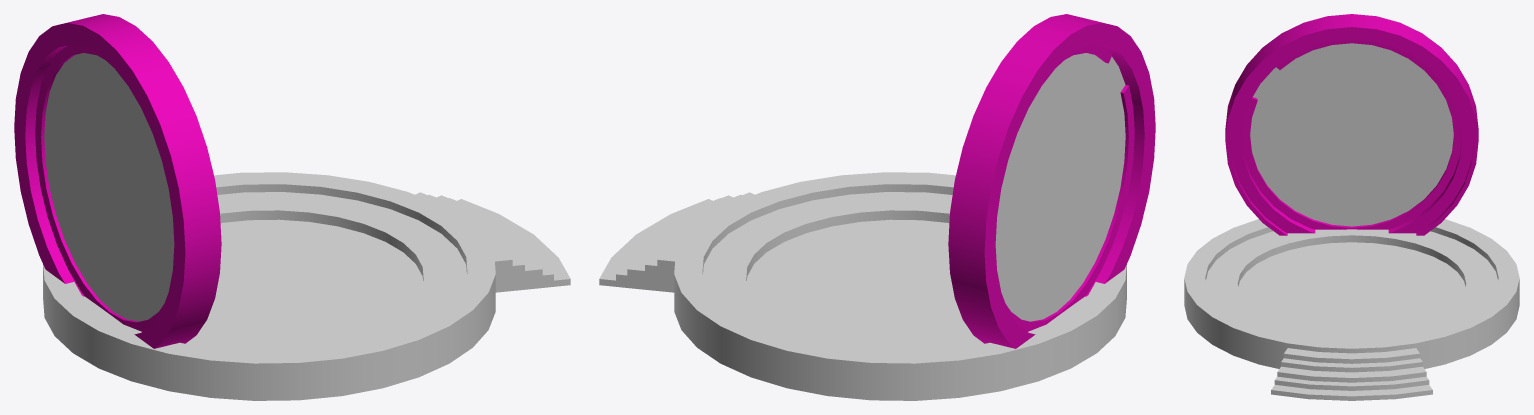
Rendered from Portal_Lp.fbx.
The picture shows the model from 3 angles, left to right: view 1: azimuth 30°, elevation 25°; view 2: azimuth 150°, elevation 25°; view 3: azimuth 270°, elevation 25°; orthographic projection. The views are drawn at different scales.
Parts seen in each view (by area): view 1: Post_Low, ProtalRIng_Low, Portal_Low, Stairs_Low; view 2: Post_Low, ProtalRIng_Low, Portal_Low, Stairs_Low; view 3: Post_Low, Portal_Low, ProtalRIng_Low, Stairs_Low.
Boxes of the visible parts, left/top/right/bottom form: Post_Low: left=43, top=172, right=495, bottom=400; ProtalRIng_Low: left=14, top=14, right=221, bottom=348; Portal_Low: left=44, top=53, right=174, bottom=321; Stairs_Low: left=415, top=192, right=570, bottom=292; Post_Low: left=674, top=172, right=1126, bottom=400; ProtalRIng_Low: left=948, top=14, right=1155, bottom=348; Portal_Low: left=995, top=53, right=1125, bottom=321; Stairs_Low: left=599, top=192, right=754, bottom=292; Post_Low: left=1184, top=219, right=1519, bottom=368; Portal_Low: left=1250, top=43, right=1453, bottom=226; ProtalRIng_Low: left=1225, top=14, right=1478, bottom=235; Stairs_Low: left=1271, top=348, right=1432, bottom=400.
Bounding box in the file's own units: 1133 × 732 × 966.
